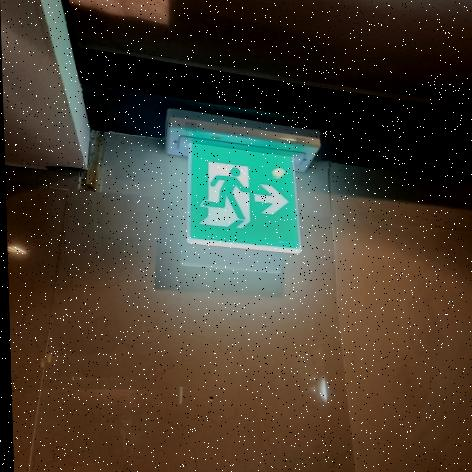emergency_exit: (184, 137, 303, 254)
